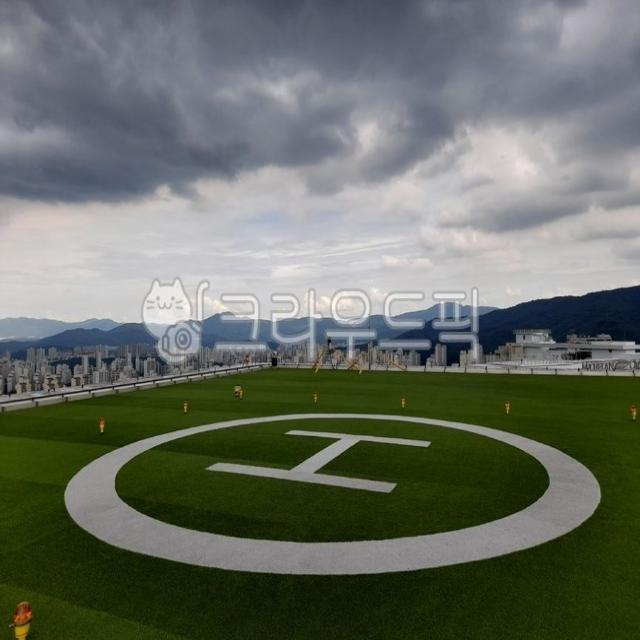helipad: (58, 407, 602, 581)
